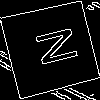N: (25, 24, 79, 71)
